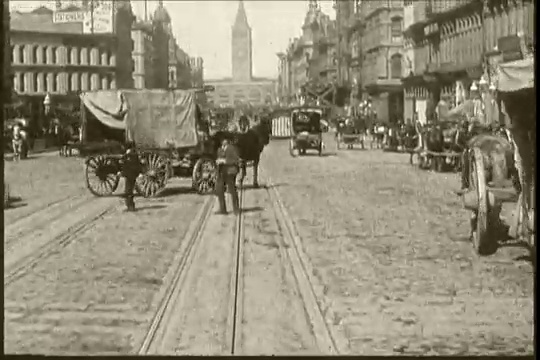carriage: (66, 83, 268, 202), (448, 81, 540, 259)
